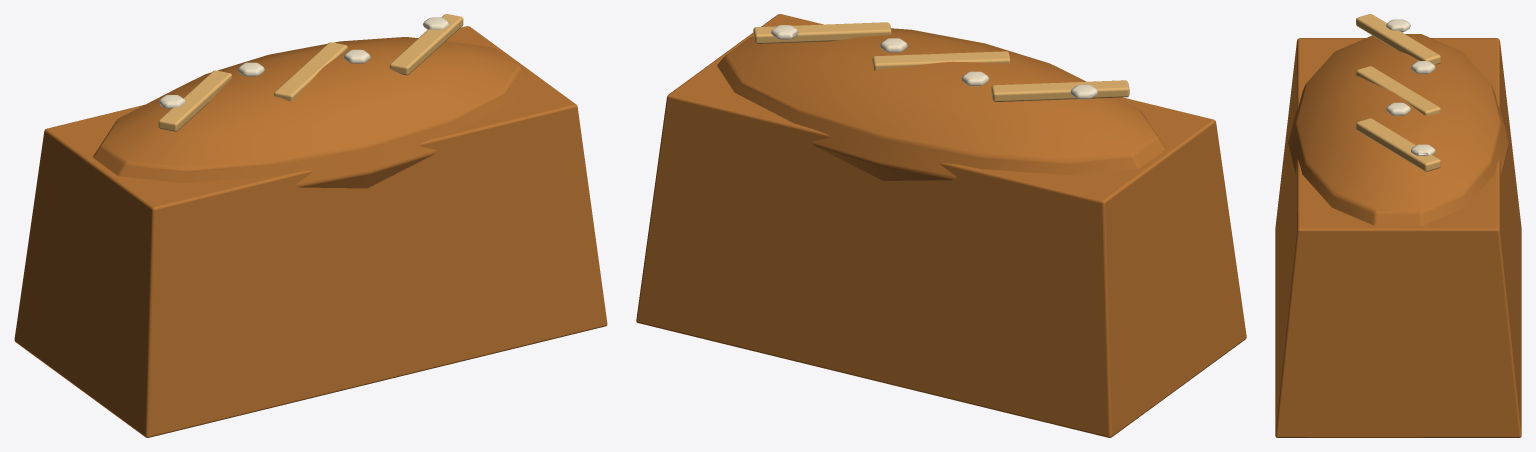
Rendered from Bread.glb.
3 renders of one model, left to right at view 1: azimuth 30°, elevation 25°; view 2: azimuth 150°, elevation 25°; view 3: azimuth 270°, elevation 25°, orthographic. The views are drawn at different scales.
Parts seen in each view (by area): view 1: Bread; view 2: Bread; view 3: Bread.
Part boxes in pixels (x1,y1,x2,y2): Bread: (14, 14, 607, 437); Bread: (636, 14, 1246, 437); Bread: (1275, 14, 1521, 437).
Size of the model in its own units: 0.1998 by 0.112 by 0.0998.
